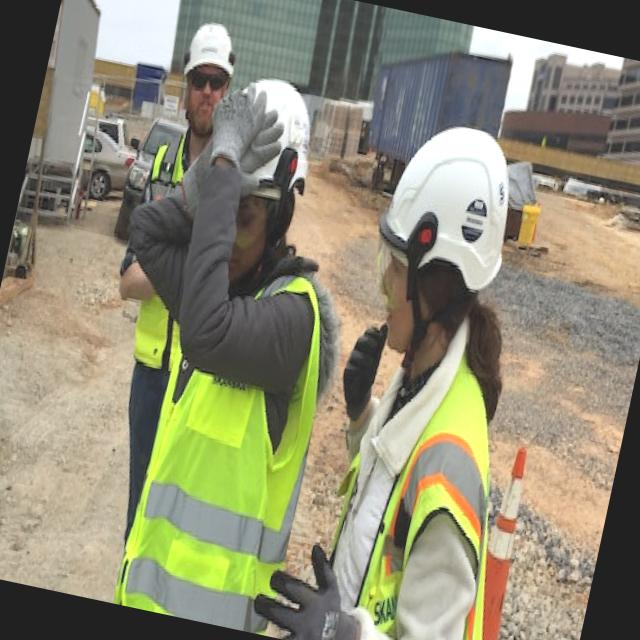goggles: (358, 247, 436, 324), (220, 198, 271, 256), (180, 60, 232, 106)
helmet: (376, 94, 542, 303), (208, 66, 326, 210), (178, 16, 239, 79)
vest: (138, 254, 344, 636), (312, 343, 541, 640), (146, 138, 190, 196)
